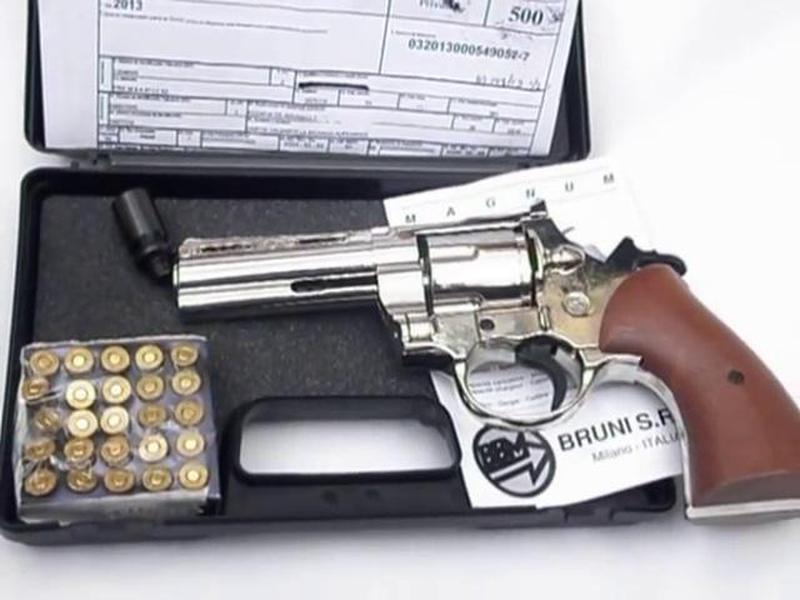Revolver: (177, 227, 800, 438)
